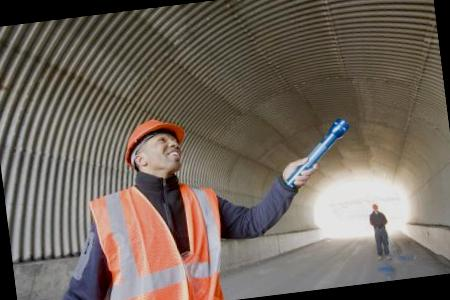person: (30, 104, 311, 300), (362, 200, 396, 262)
